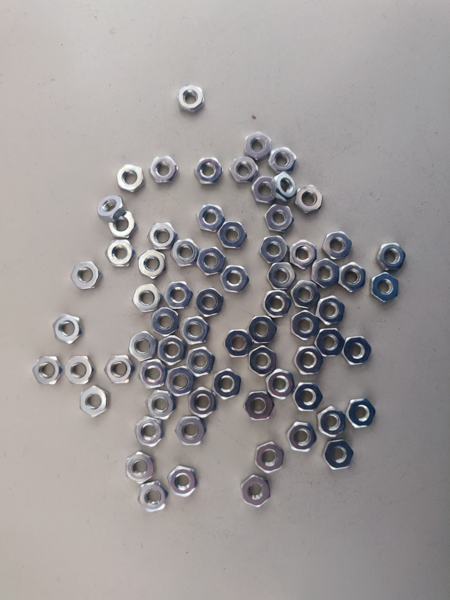nut: (241, 475, 273, 508), (254, 442, 286, 474), (286, 422, 318, 454), (323, 439, 355, 471), (317, 406, 349, 438), (345, 397, 377, 429), (341, 336, 374, 367), (314, 328, 347, 359), (31, 355, 63, 386), (188, 388, 219, 419), (165, 367, 196, 398), (168, 466, 198, 497), (138, 481, 168, 512), (134, 417, 164, 448), (176, 417, 206, 448), (105, 355, 135, 386), (78, 386, 108, 417), (64, 355, 94, 386), (132, 283, 162, 314), (138, 359, 168, 390), (145, 390, 175, 421), (186, 346, 216, 377), (156, 335, 186, 366), (129, 330, 159, 361), (371, 273, 401, 303), (338, 262, 368, 292), (317, 295, 347, 325), (294, 346, 324, 376), (244, 391, 274, 421), (212, 370, 242, 400), (125, 453, 155, 483), (53, 315, 83, 345), (105, 238, 135, 268), (137, 249, 167, 279), (163, 280, 193, 310), (262, 289, 292, 319), (260, 235, 290, 265), (267, 261, 297, 291), (71, 260, 100, 291), (195, 287, 224, 318), (221, 264, 250, 295), (224, 329, 253, 360), (149, 154, 178, 185), (196, 203, 225, 234), (217, 220, 246, 251), (197, 247, 226, 278), (170, 237, 199, 268), (377, 243, 407, 272), (323, 231, 353, 260), (292, 383, 322, 412), (248, 315, 277, 345), (266, 370, 295, 400), (194, 157, 223, 187), (115, 163, 144, 193), (290, 312, 320, 341), (264, 204, 294, 233), (176, 84, 205, 114), (249, 346, 277, 377), (289, 241, 318, 270), (148, 222, 176, 252), (152, 307, 180, 337), (181, 316, 209, 346), (295, 186, 324, 214), (96, 195, 124, 223), (108, 212, 136, 240), (311, 260, 339, 288), (268, 147, 297, 174), (292, 280, 322, 306), (229, 156, 258, 182), (243, 133, 272, 159), (229, 155, 258, 181), (251, 177, 278, 204), (272, 173, 299, 200)
